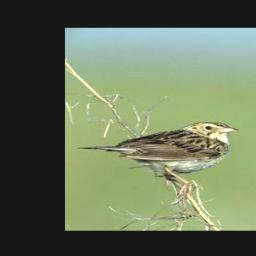Sparrow: (74, 117, 247, 199)
